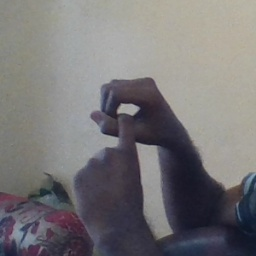Q: (73, 73, 176, 192)
